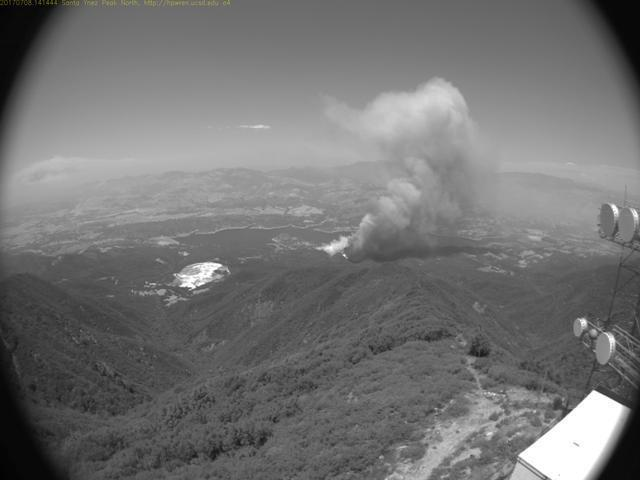Smoke: (311, 69, 511, 265)
